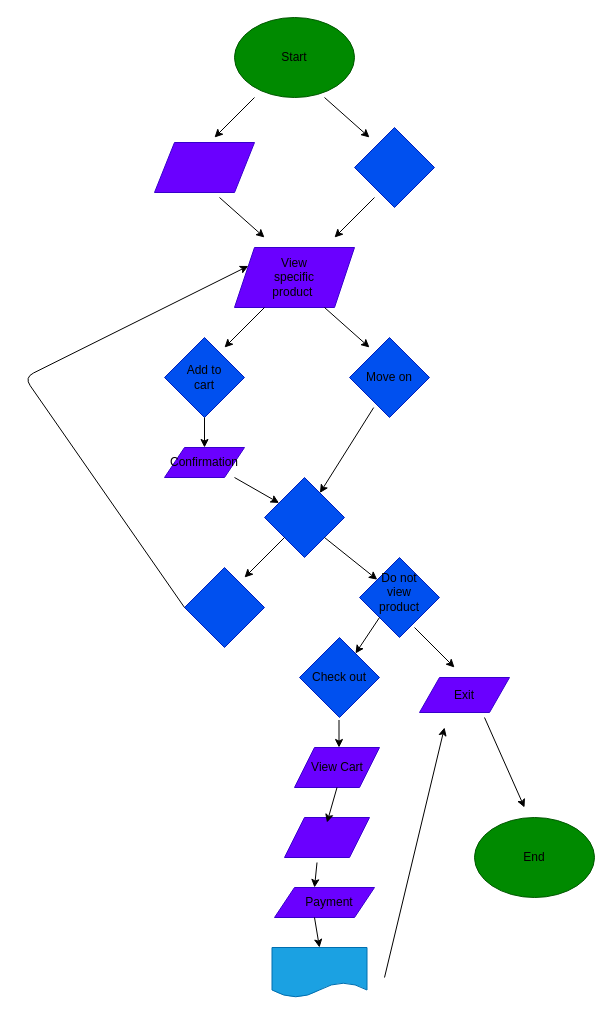
Some shapes in this 612 by 1015 pixel diagram are drawn without their labels. The box of each missing label's shape, as (x1, y1, x2, y2) in pixels:
Continue shopping: (264, 476, 344, 558)
Explore products on home page: (354, 126, 434, 208)
Order confirmation and email: (271, 946, 367, 998)
Search for a product: (154, 142, 254, 192)
View Payment: (284, 816, 370, 858)
View product: (184, 566, 264, 648)
